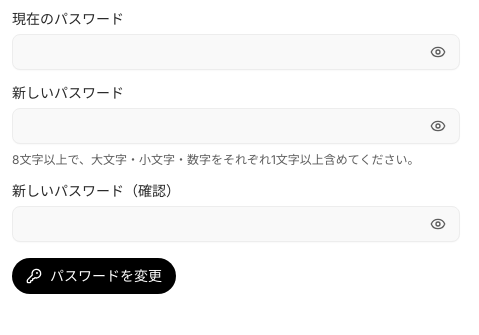
Scenario: PasswordChangeForm（#89） › 確認用が一致しなければ送信しない
Step 1. Type "Old12345" into the password field labelled "現在のパスワード" → {"x": 236, "y": 52}, box [12,34,460,70]
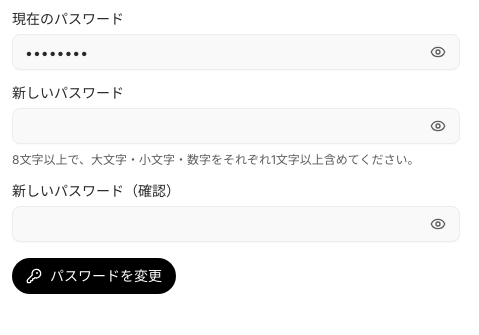
Step 2. Type "NewPass123" into the password field labelled "新しいパスワード" → {"x": 236, "y": 126}, box [12,108,460,144]
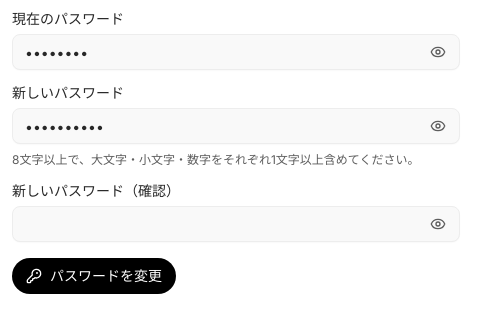
Step 3. Type "NewPass124" into the password field labelled "新しいパスワード（確認）" → {"x": 236, "y": 224}, box [12,206,460,242]
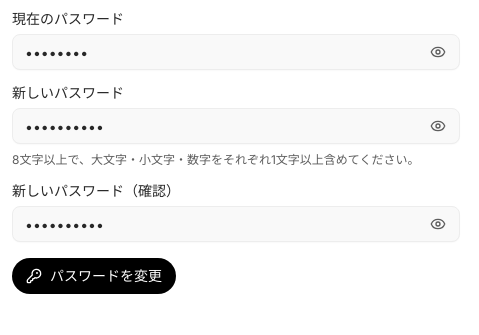
Step 4. Click the button "パスワードを変更" → {"x": 94, "y": 276}, box [12,258,176,294]
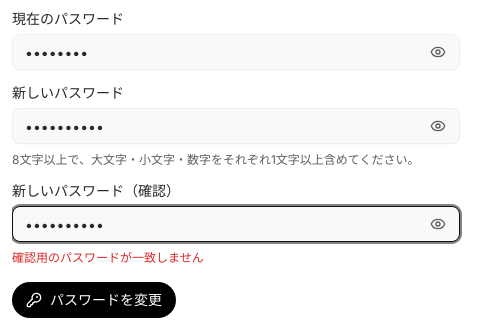
Expected: the text "確認用のパスワードが一致しません" is shown, [12,250,204,265]
